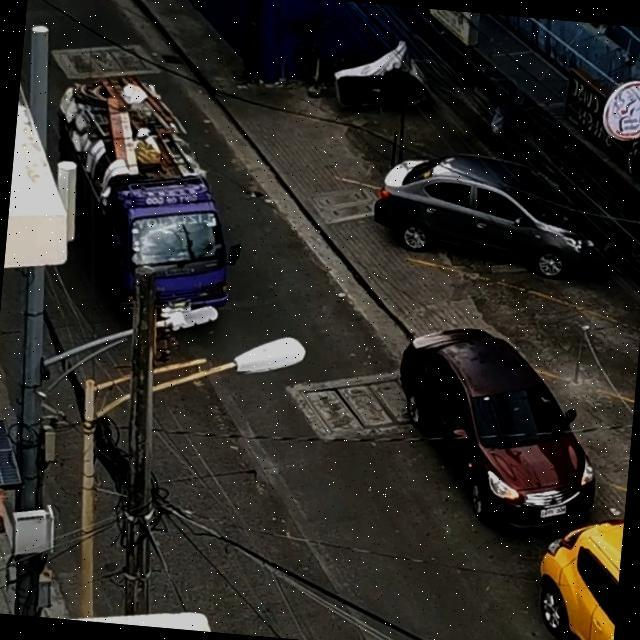Truck: (4, 37, 314, 382)
